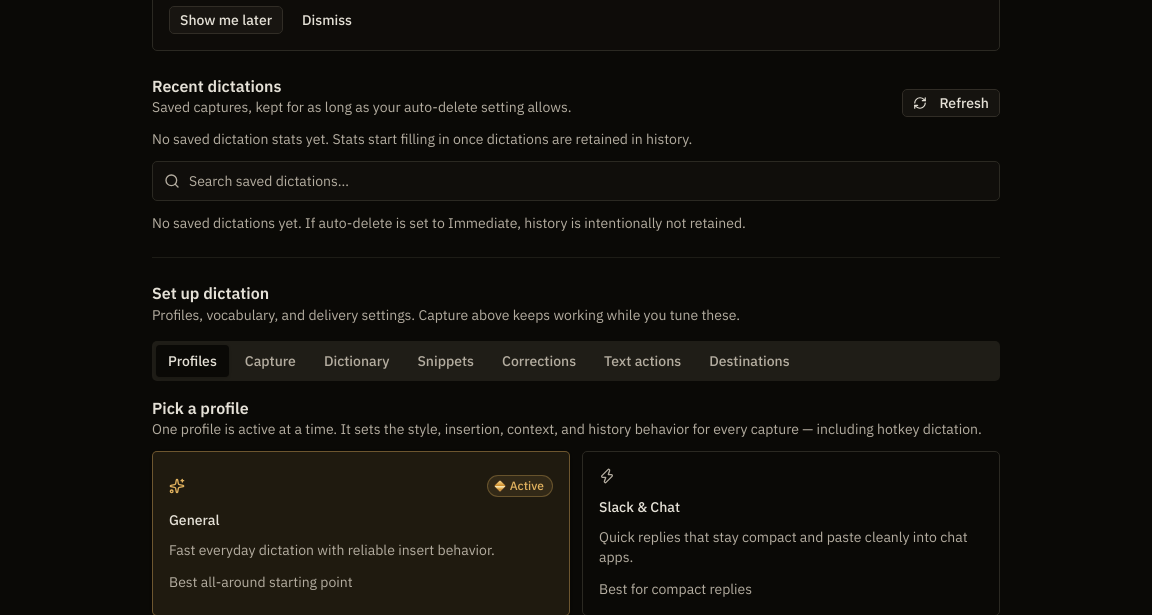
Scenario: DictationView modes › suppresses batch live preview when Apple Speech is selected
This screenshot has width=1152, height=615.
(page scrolled)
Press the mouse on the tab "Capture" at [270, 361], box [233, 345, 308, 377]
(page scrolled)
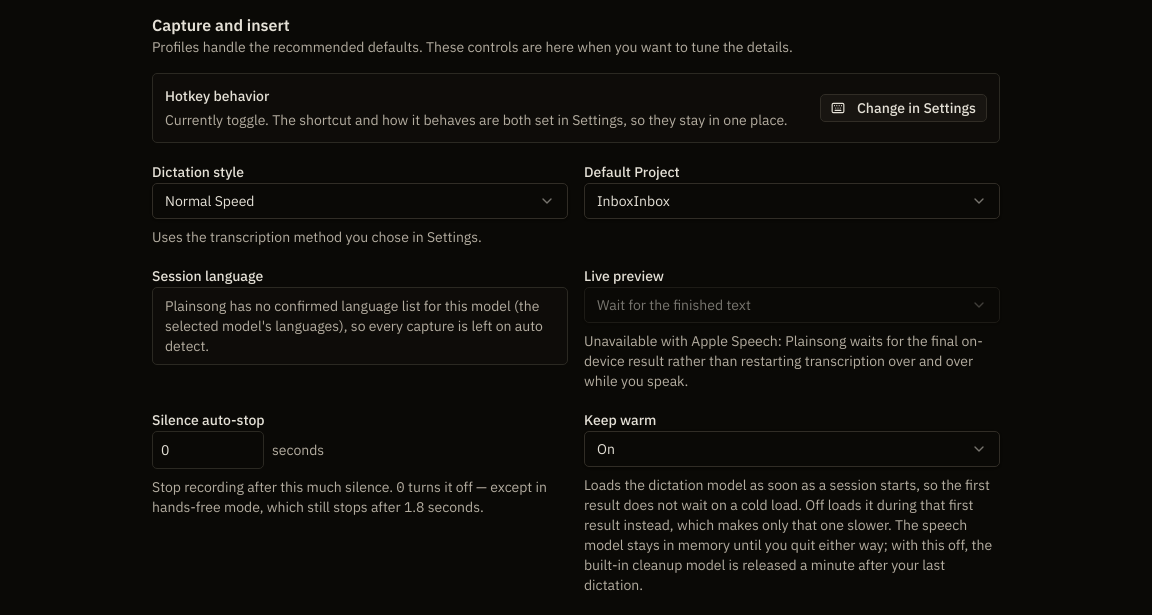
Expected: the dropdown named "Live preview" is disabled, [584, 287, 1000, 323]
Expected: the dropdown named "Live preview" reads "Wait for the finished text", [584, 287, 1000, 323]
Expected: the text "waits for the final on-device result" is shown, [584, 332, 983, 390]
